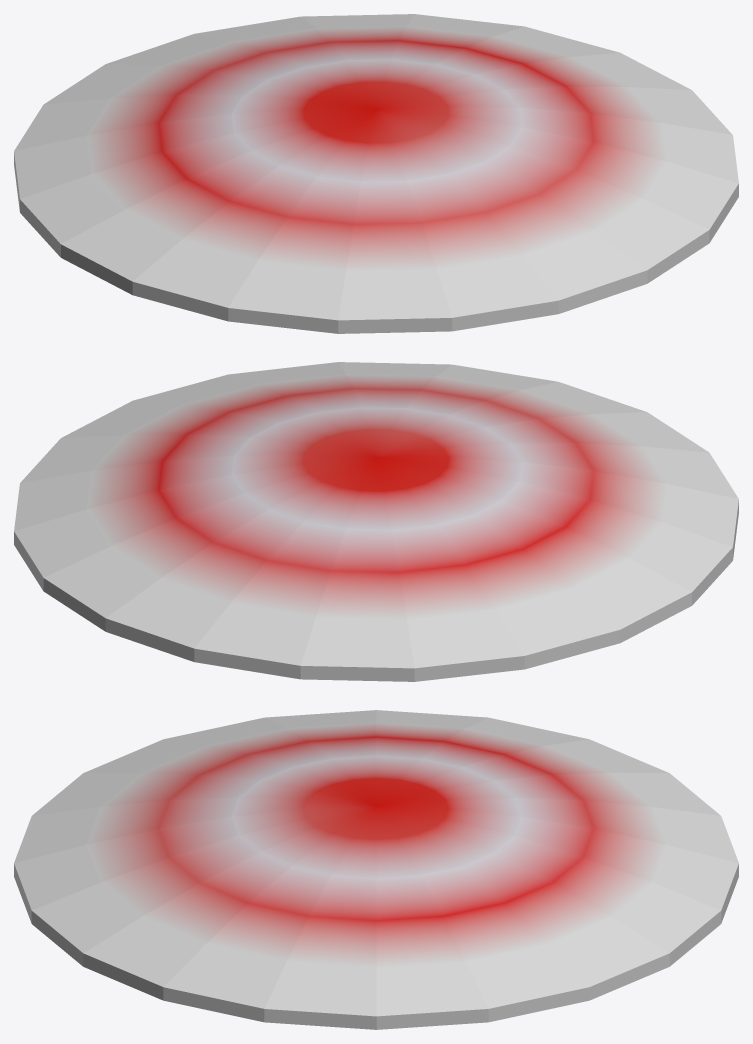
File: target.dae
3 views of the same model, one above another, from view 1: azimuth 30°, elevation 25°; view 2: azimuth 150°, elevation 25°; view 3: azimuth 270°, elevation 25° (orthographic).
Parts seen in each view (by area): view 1: pCylinder1; view 2: pCylinder1; view 3: pCylinder1.
Boxes of the visible parts, x1=… form: pCylinder1: x1=14, y1=14, x2=738, y2=333; pCylinder1: x1=14, y1=362, x2=738, y2=681; pCylinder1: x1=14, y1=710, x2=738, y2=1029.
Bounding box in the file's own units: 13.23 × 13.23 × 1.41.
